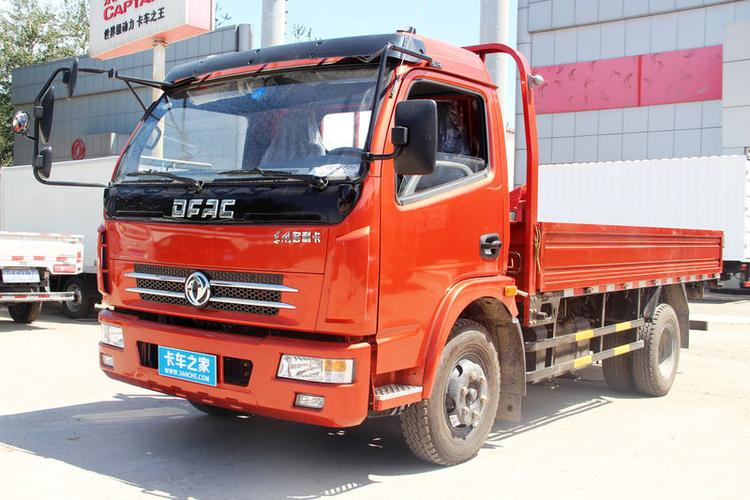卡车: (97, 48, 729, 467)
